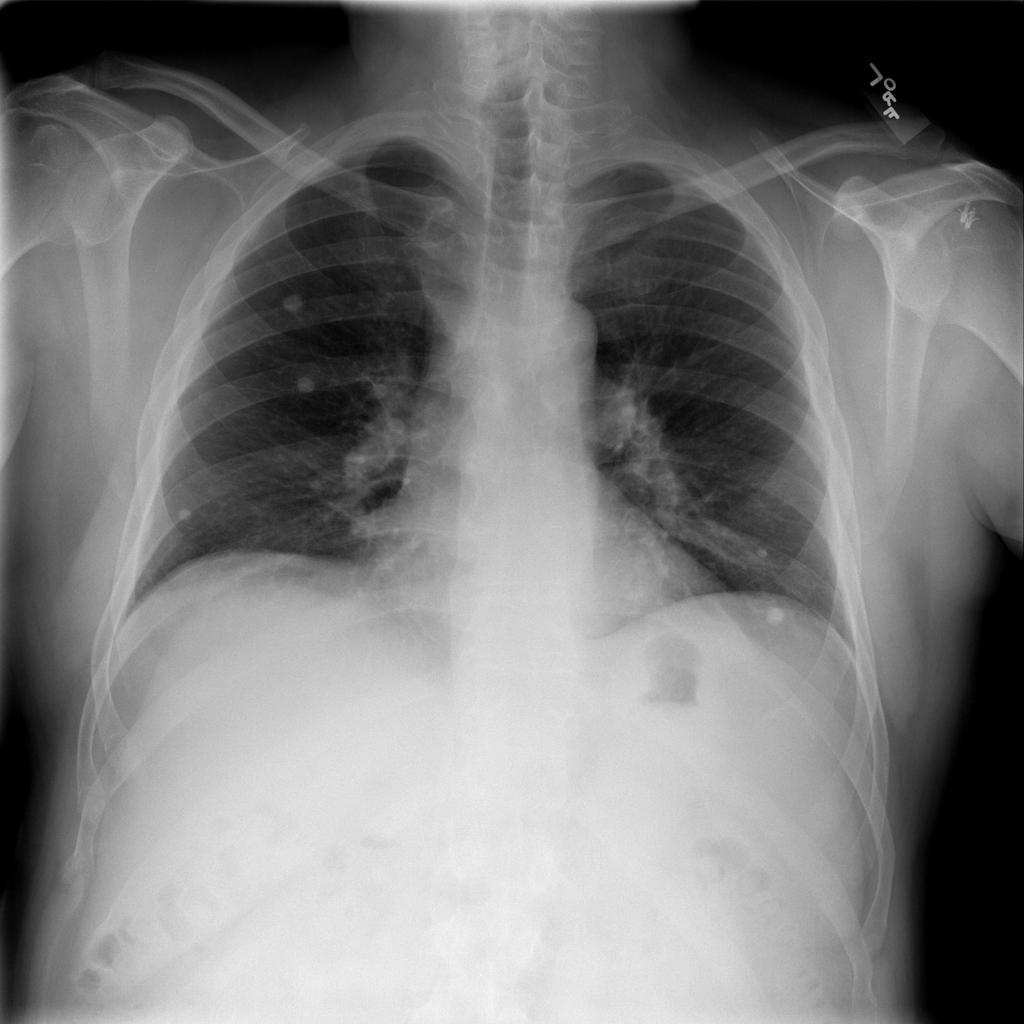nodule: (268, 278, 321, 327), (159, 490, 213, 537), (748, 594, 800, 640), (283, 365, 326, 400)
